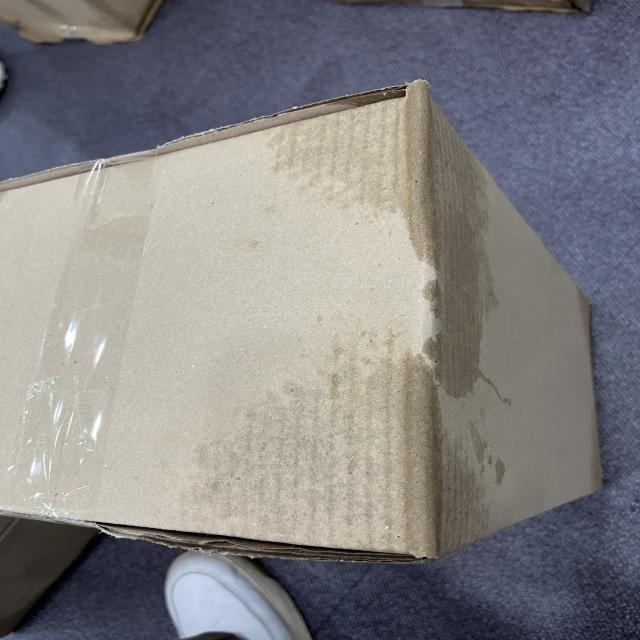wet: (233, 107, 520, 552)
